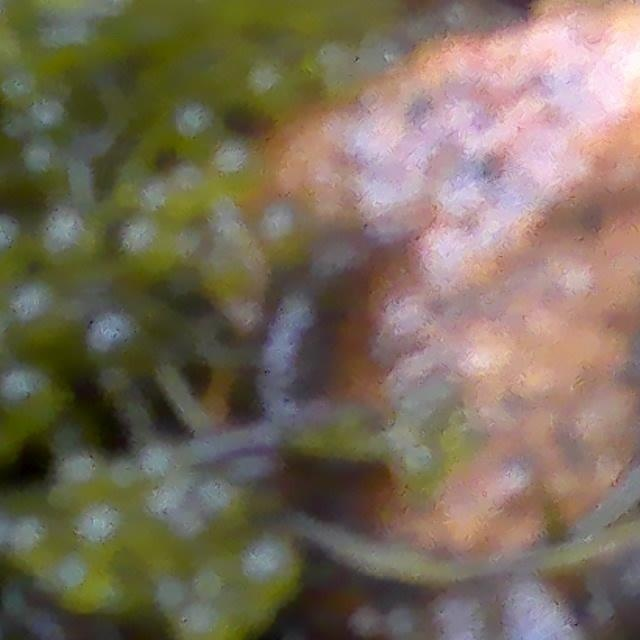SeaGrape: (0, 364, 64, 425), (5, 282, 66, 340), (79, 500, 135, 563), (43, 209, 100, 268), (257, 203, 304, 272), (244, 535, 302, 590), (209, 141, 261, 201), (169, 104, 222, 160), (154, 171, 208, 224), (123, 216, 180, 266), (15, 520, 66, 572), (171, 601, 235, 640), (58, 565, 110, 604)
